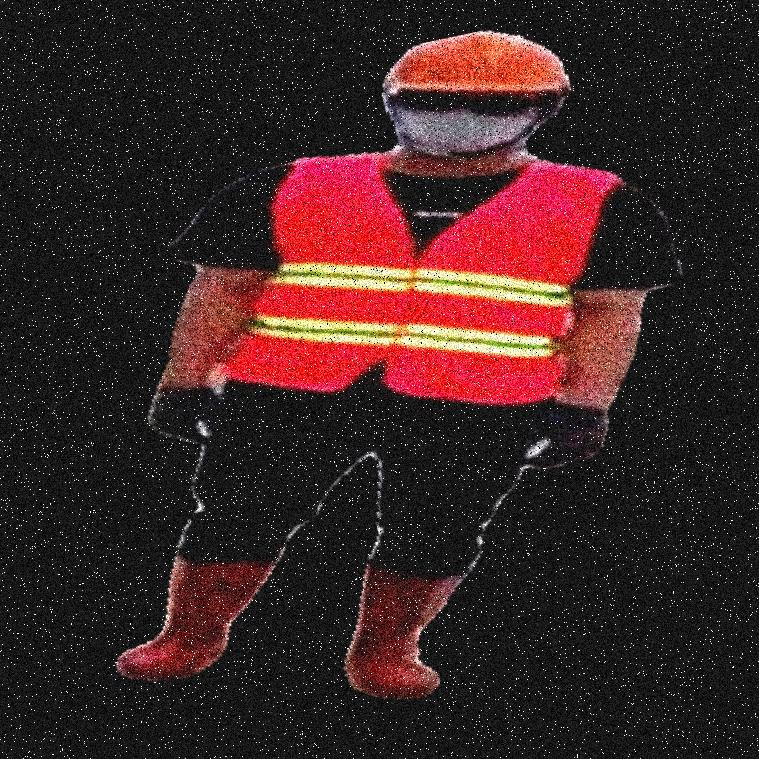Pessoa: (311, 0, 598, 758)
